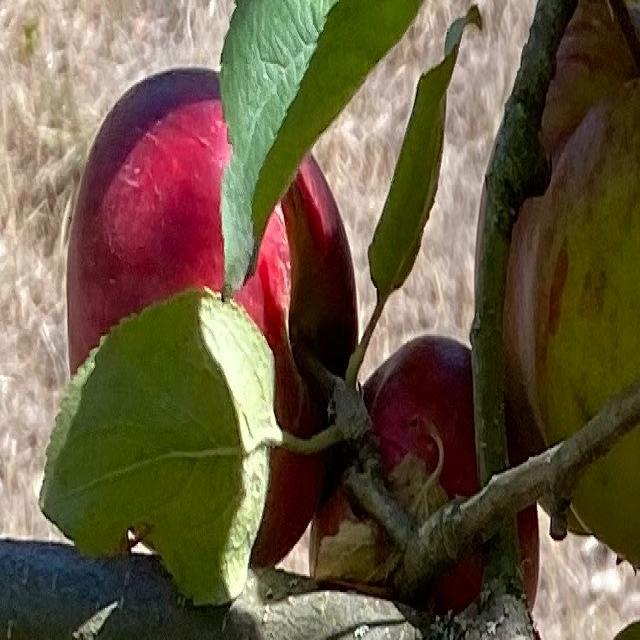Apples: (69, 66, 359, 567), (505, 0, 639, 569), (309, 334, 540, 614)
